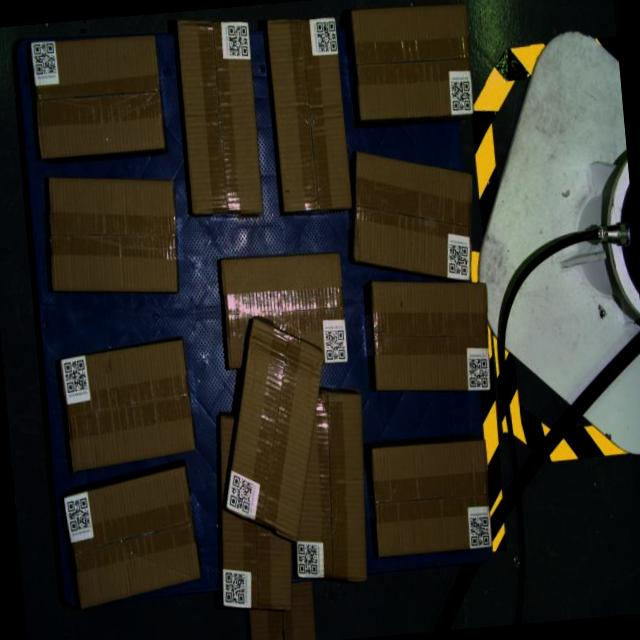box: (208, 310, 341, 548), (344, 142, 482, 292), (61, 465, 202, 610), (42, 166, 184, 303), (281, 386, 377, 586), (175, 13, 266, 220), (58, 338, 196, 472), (266, 13, 352, 214), (30, 31, 165, 159), (367, 271, 495, 400), (219, 248, 349, 371), (368, 437, 495, 558), (351, 0, 475, 123)
